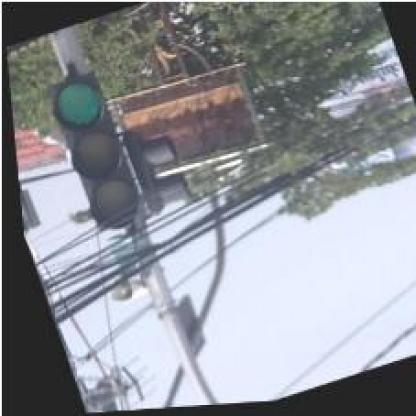green: (39, 66, 144, 235)
